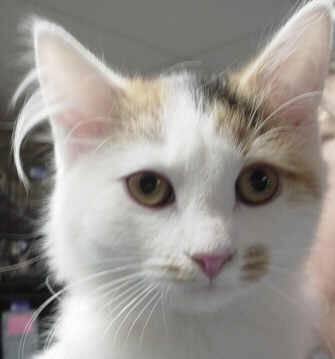cat: (18, 0, 333, 359)
